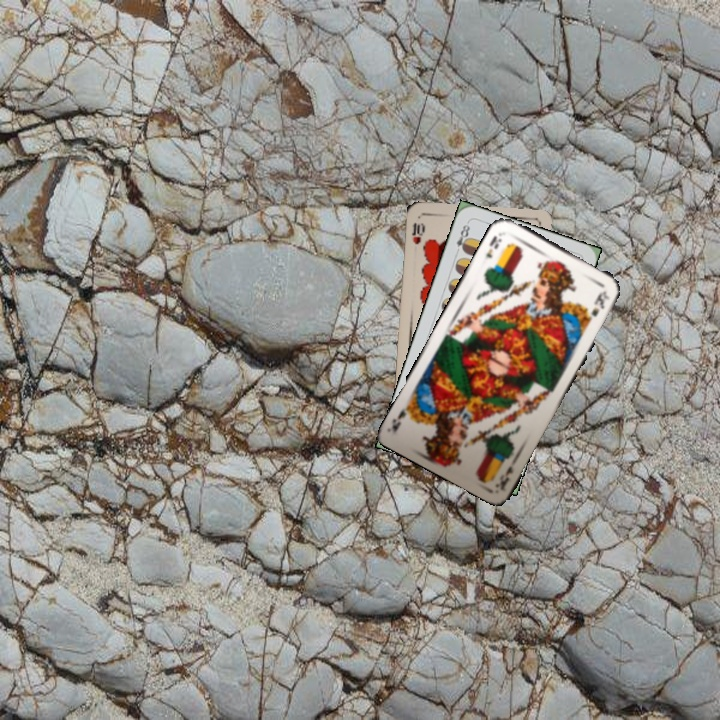E8: (451, 218, 473, 258)
EK: (492, 461, 515, 493), (482, 231, 504, 261)
H10: (408, 219, 427, 247)
